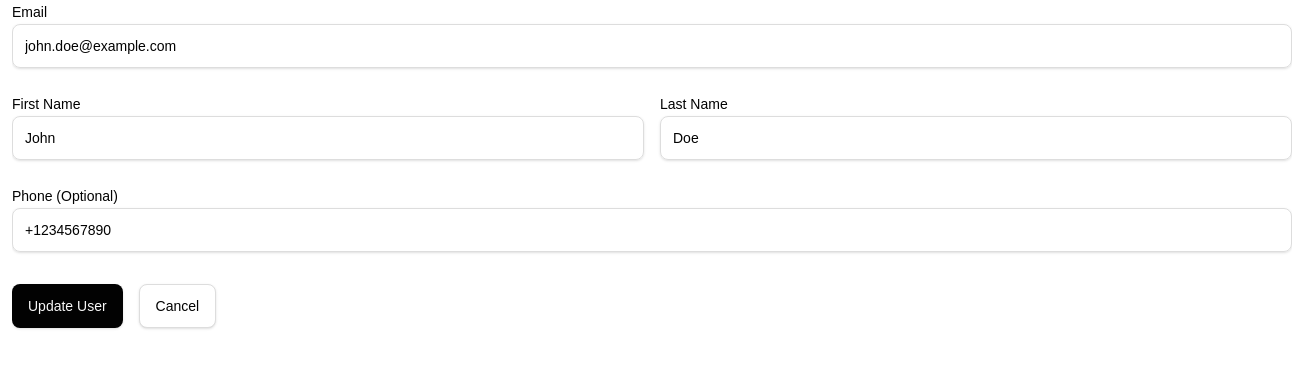
Test: UserEditForm › Form Validation › should show validation error for short first name
In the field labelled "First Name": (328, 138) 12,116 -> 644,160, type "J"
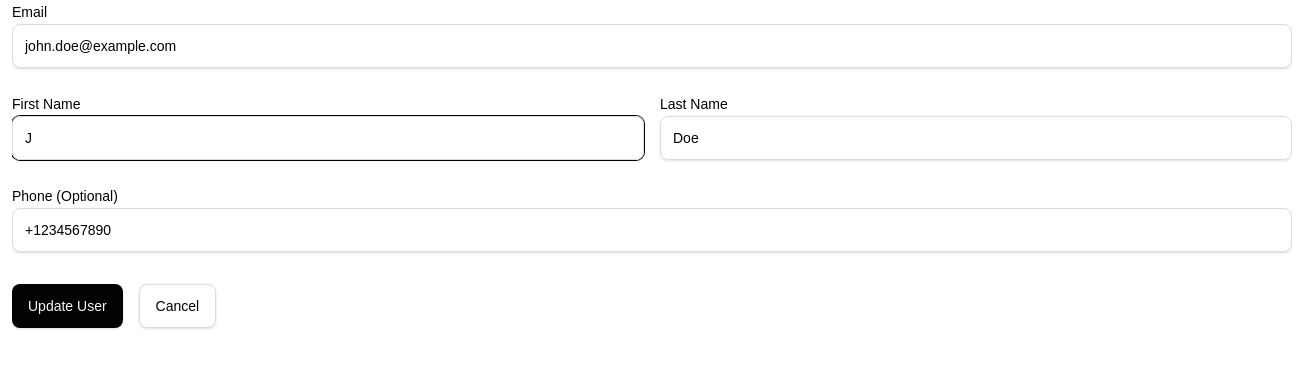
Click the button "Update User": click(67, 306) 12,284 -> 123,328
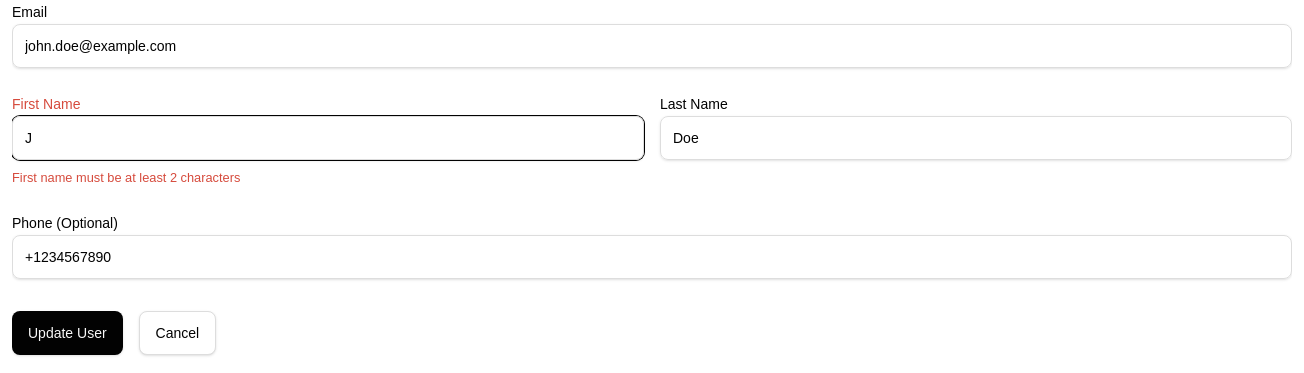
Now the text "First name must be at least 2 characters" is shown, box 12,170 -> 240,185
